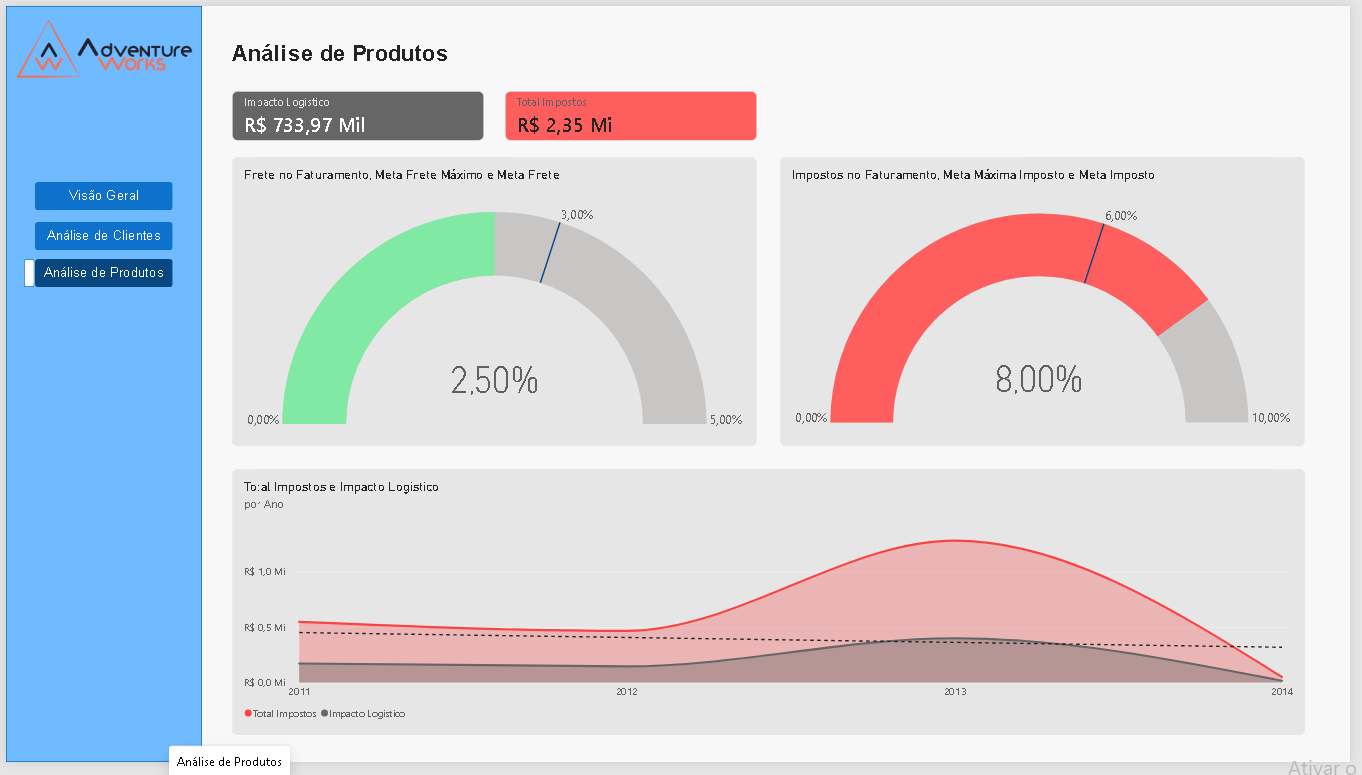

What the dashboard file says about the page in this screenshot:
{"tool":"powerbi","page":{"name":"Análise de Produtos","canvas":[1920,1080],"ordinal":2},"visuals":[{"type":"shape","box":[0,0,280,1080],"z":0},{"type":"image","box":[0,0,280,122],"z":1000},{"type":"textbox","box":[323.3,48.3,360,40],"z":2000},{"type":"cardVisual","fields":{"Data":["FactInternetSales.Impacto Logistico"]},"box":[323.3,121.7,360,71.7],"z":4000},{"type":"actionButton","box":[41.7,250.8,196.7,40],"z":9000},{"type":"actionButton","box":[41.7,308.3,196.7,40],"z":10000},{"type":"cardVisual","fields":{"Data":["FactInternetSales.Total Descontos"]},"box":[712.9,121.4,360,71.7],"z":11001},{"type":"lineChart","title":"Evolução Temporal dos Custos Operacionais","fields":{"Category":["DimDate.FullDateAlternateKey.Variation.Hierarquia de datas.Ano","DimDate.FullDateAlternateKey.Variation.Hierarquia de datas.Trimestre","DimDate.FullDateAlternateKey.Variation.Hierarquia de datas.Mês","DimDate.FullDateAlternateKey.Variation.Hierarquia de datas.Dia"],"Y":["FactInternetSales.Total Impostos","FactInternetSales.Impacto Logistico"]},"box":[322.9,661.4,1532.9,380],"z":11002},{"type":"gauge","title":"% do Frete no Faturamento","fields":{"MaxValue":["FactInternetSales.Meta Frete Máximo"],"TargetValue":["FactInternetSales.Meta Frete"],"Y":["FactInternetSales.Frete no Faturamento"]},"box":[322.9,215.7,750,412.9],"z":11003},{"type":"gauge","title":"% de Impostos no Faturamento","fields":{"MaxValue":["FactInternetSales.Meta Máxima Imposto"],"TargetValue":["FactInternetSales.Meta Imposto"],"Y":["FactInternetSales.Impostos no Faturamento"]},"box":[1105.7,215.7,750,412.9],"z":11004},{"type":"actionButton","box":[41.7,361.2,196.7,40],"z":11005},{"type":"shape","box":[25,361,12,40],"z":11006}]}

Visuals, with their boxes on the page's 1920x1080 design canvas (x1, y1, x2, y2). These are canvas units, not pixel positions in the 1362x775 screenshot, which may show the page scaled, cropped or inside an application window:
shape: Rect(0, 0, 280, 1080)
image: Rect(0, 0, 280, 122)
textbox: Rect(323, 48, 683, 88)
cardVisual - FactInternetSales.Impacto Logistico: Rect(323, 122, 683, 193)
actionButton: Rect(42, 251, 238, 291)
actionButton: Rect(42, 308, 238, 348)
cardVisual - FactInternetSales.Total Descontos: Rect(713, 121, 1073, 193)
"Evolução Temporal dos Custos Operacionais" lineChart: Rect(323, 661, 1856, 1041)
"% do Frete no Faturamento" gauge: Rect(323, 216, 1073, 629)
"% de Impostos no Faturamento" gauge: Rect(1106, 216, 1856, 629)
actionButton: Rect(42, 361, 238, 401)
shape: Rect(25, 361, 37, 401)
